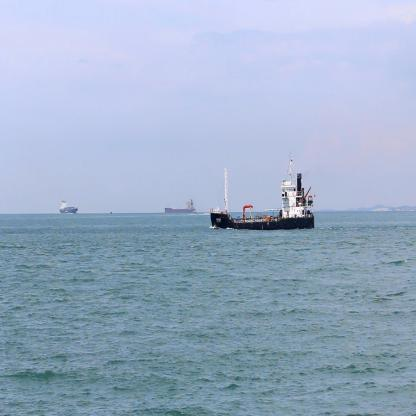Container Ship: (209, 151, 316, 232), (164, 195, 197, 215), (59, 196, 79, 214)
